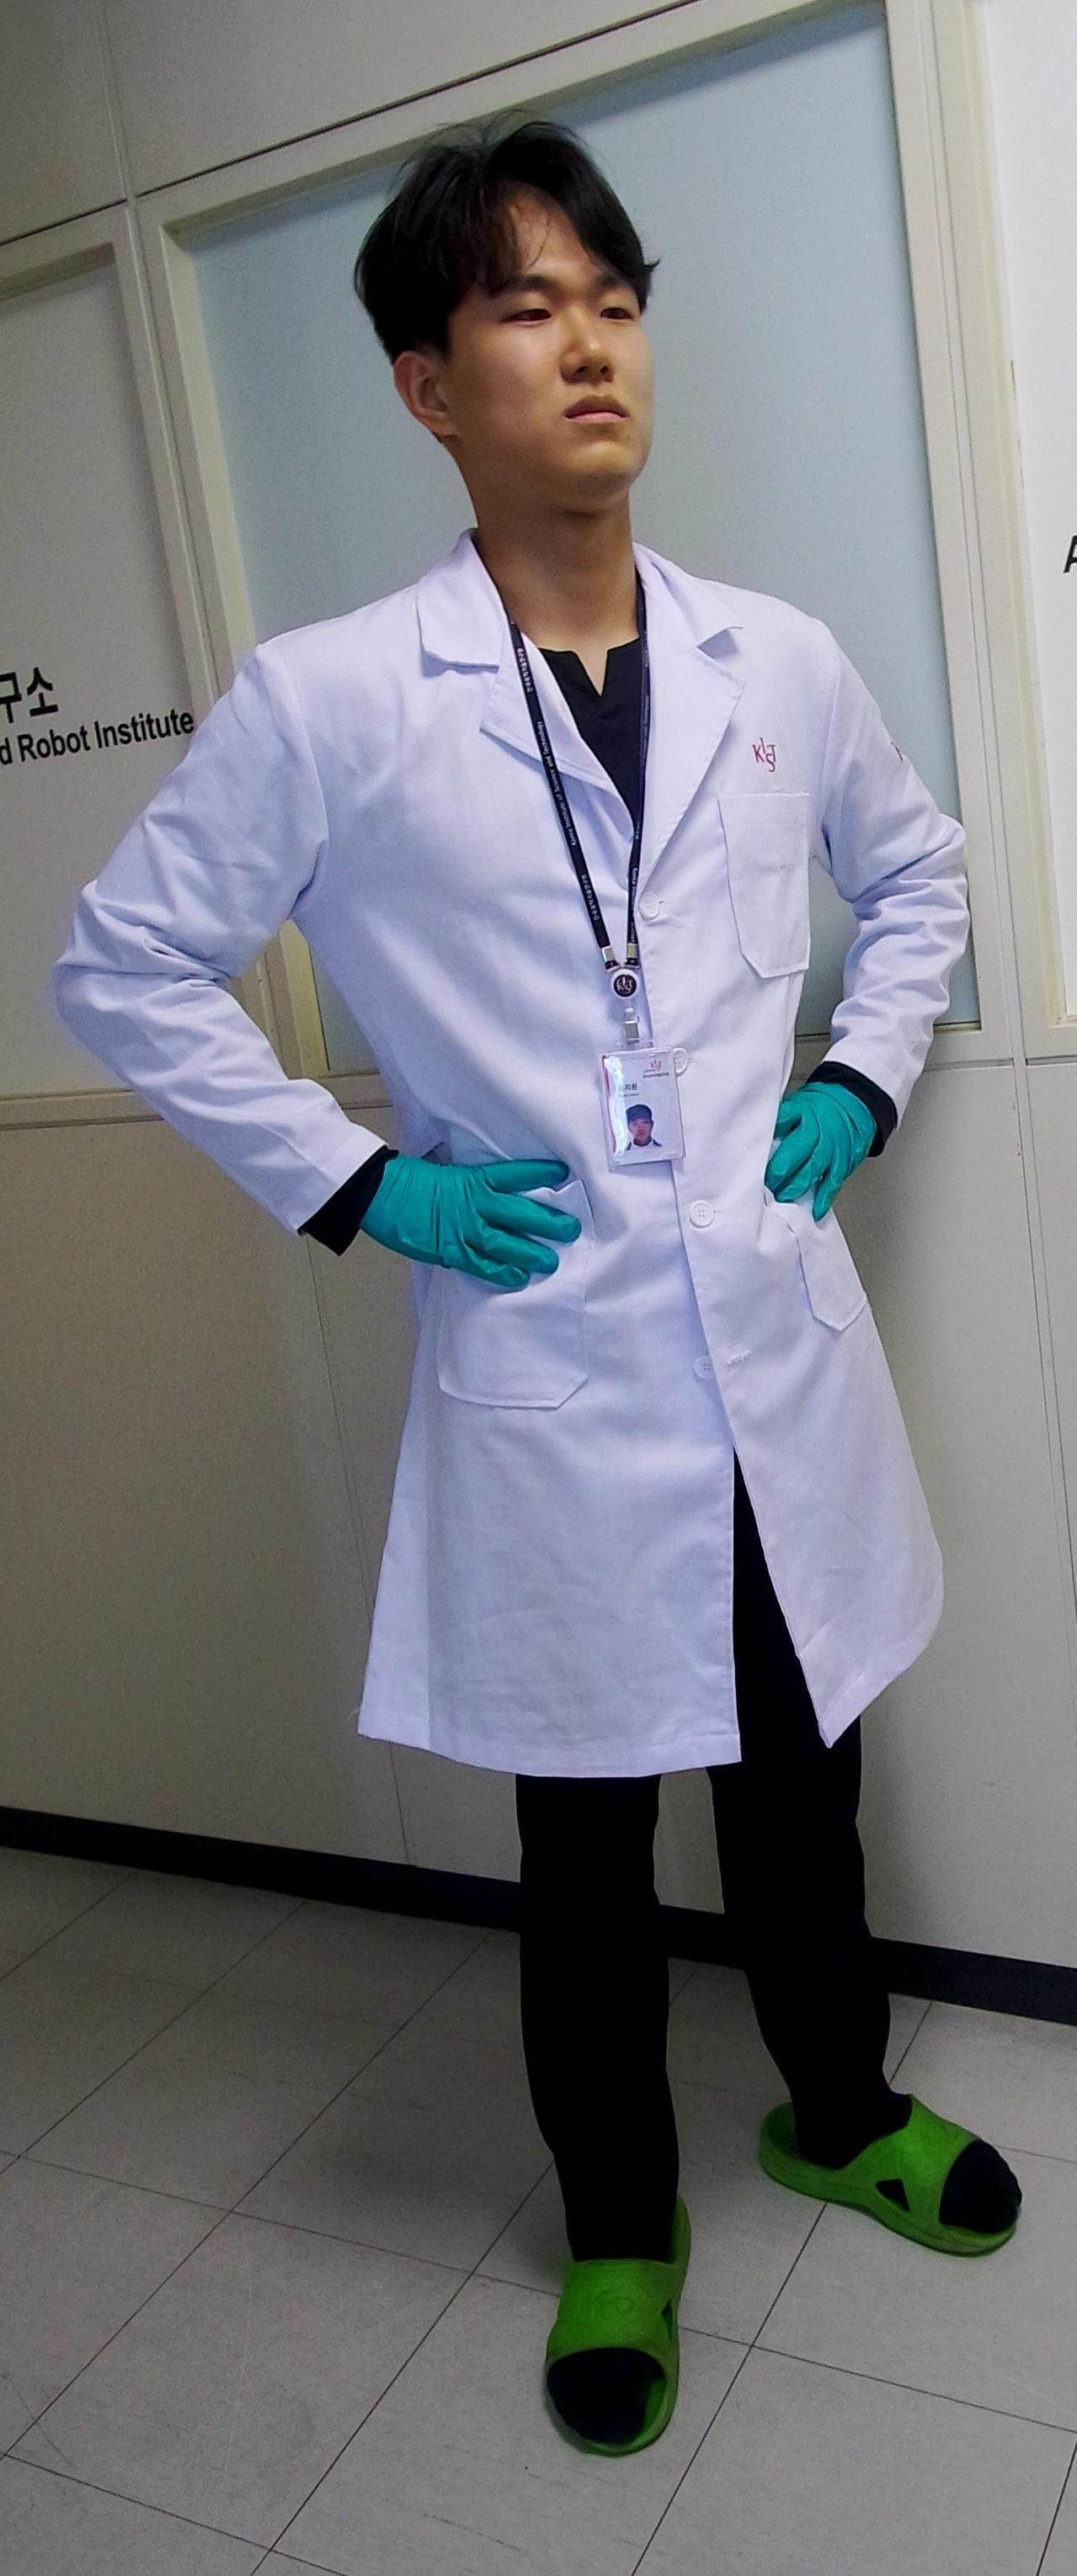lab_coat: (49, 529, 972, 1784)
